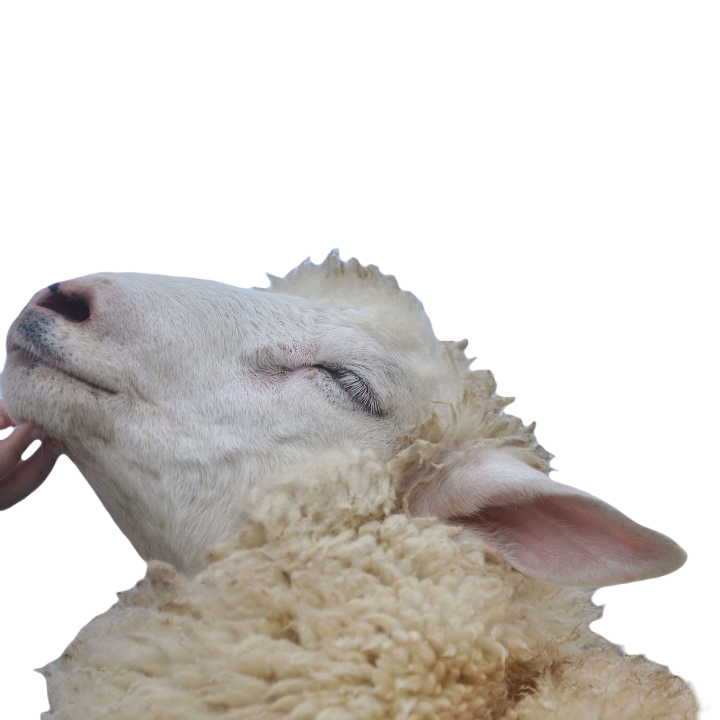Sheep: (0, 249, 714, 719)
